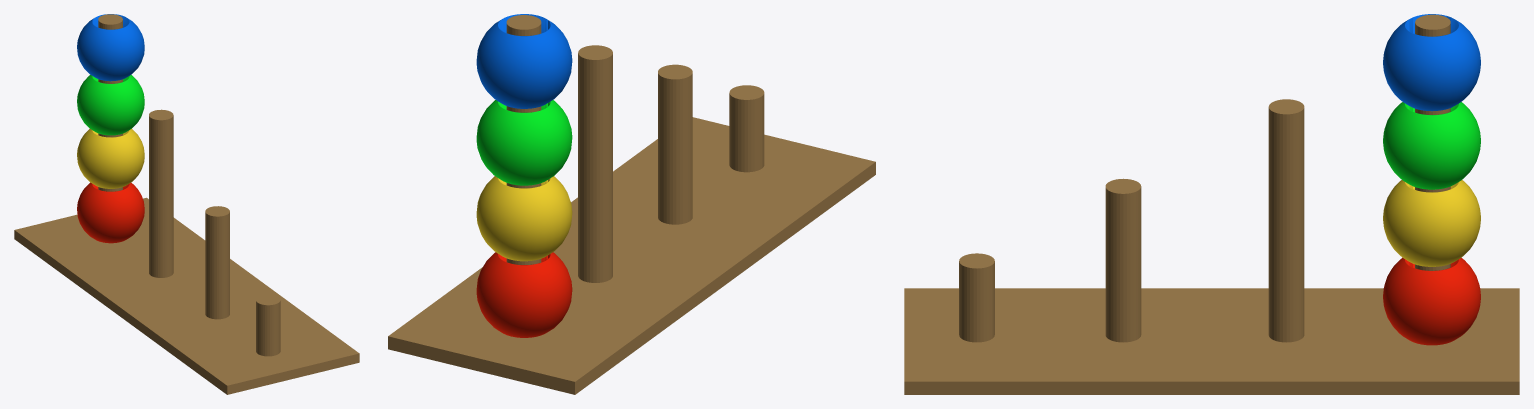
The model's file is Pazle.fbx.
3 views of the same model, side by side, from view 1: azimuth 30°, elevation 25°; view 2: azimuth 150°, elevation 25°; view 3: azimuth 270°, elevation 25° (orthographic). The views are drawn at different scales.
Parts seen in each view (by area): view 1: body, ball.003, ball.002, ball, ball.001; view 2: body, ball.003, ball.002, ball.001, ball; view 3: body, ball.003, ball, ball.002, ball.001.
Boxes of the visible parts, x1,y1,x2,y2 form: body: [14, 14, 359, 394]; ball.003: [77, 14, 144, 81]; ball.002: [77, 75, 144, 135]; ball: [77, 182, 144, 243]; ball.001: [77, 128, 144, 188]; body: [388, 15, 875, 394]; ball.003: [476, 14, 572, 108]; ball.002: [476, 100, 572, 185]; ball.001: [476, 176, 572, 261]; ball: [476, 252, 572, 337]; body: [904, 14, 1519, 394]; ball.003: [1383, 14, 1480, 111]; ball: [1383, 257, 1480, 345]; ball.002: [1383, 102, 1480, 189]; ball.001: [1383, 180, 1480, 266].
Size of the model in its own units: 41.77 by 15 by 24.42.
